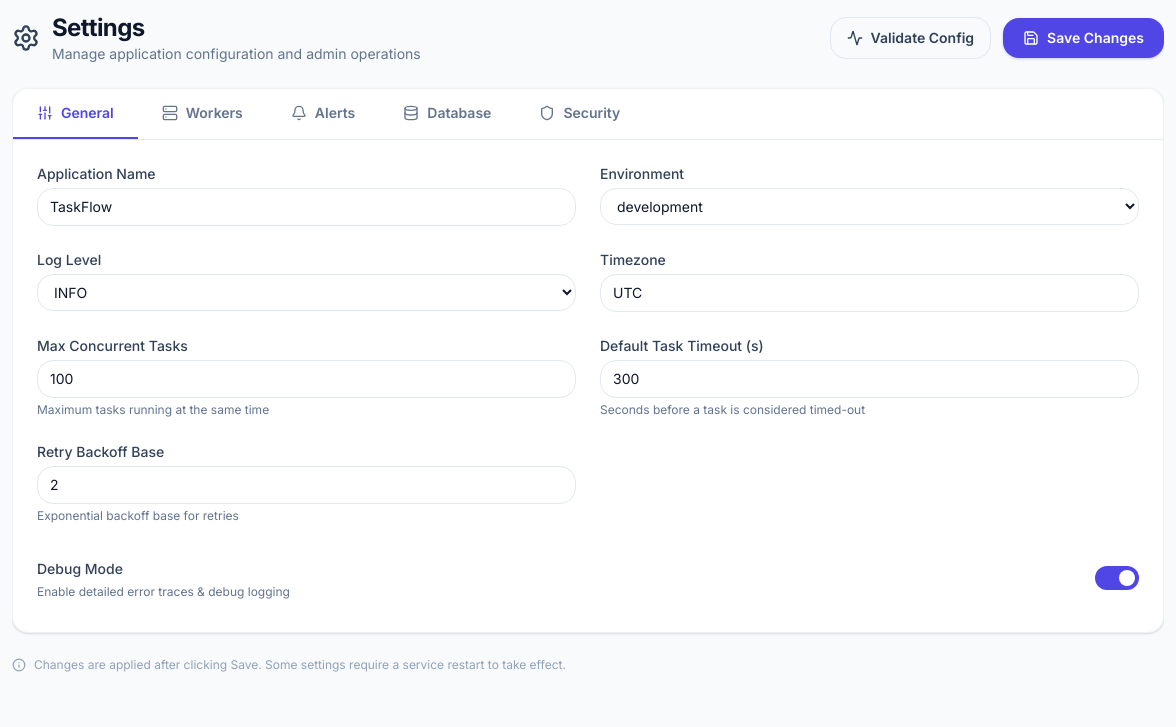
Test: SettingsPage › shows save success message when saving
Click the button "Save Changes" at (1084,38), box [1003,18,1164,58]
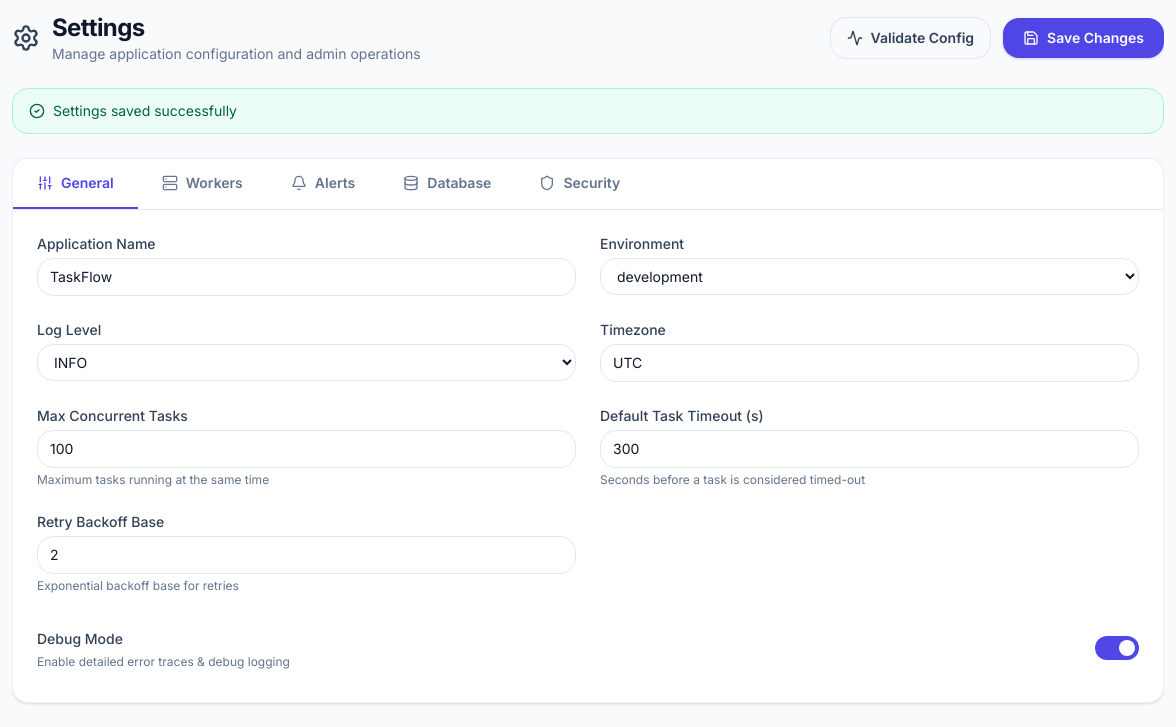
Expected: the text "Settings saved successfully" is shown, [12,88,1164,134]
